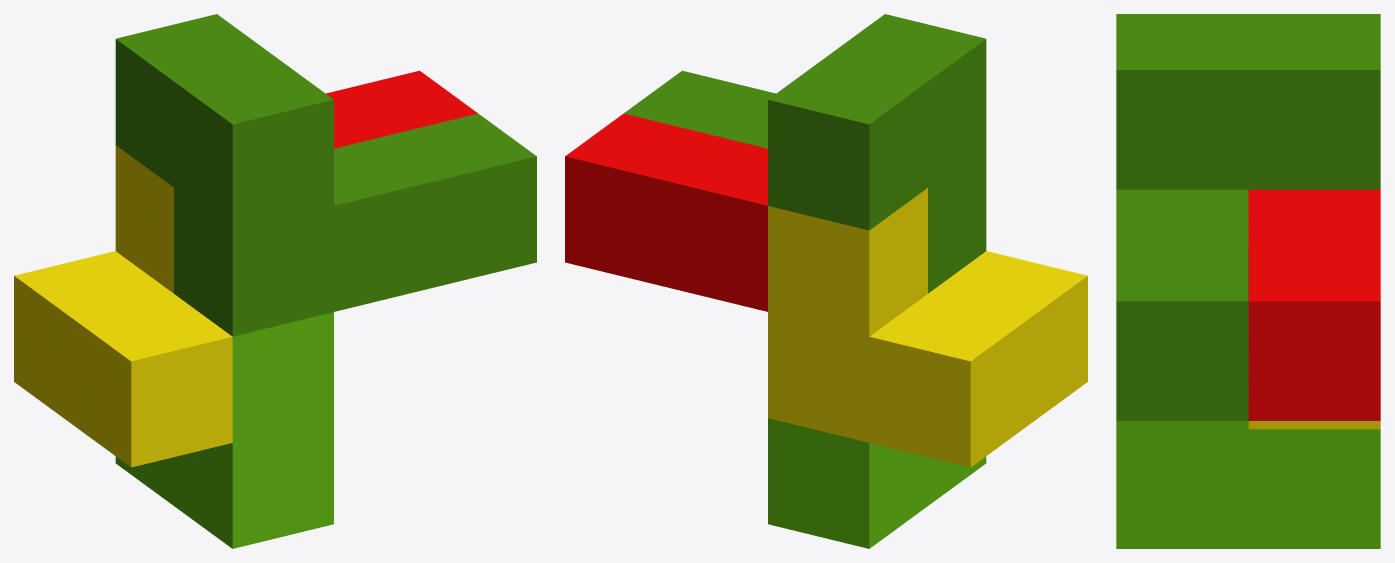
3 views of the same model, side by side, from view 1: azimuth 30°, elevation 25°; view 2: azimuth 150°, elevation 25°; view 3: azimuth 270°, elevation 25° (orthographic). The views are drawn at different scales.
Parts seen in each view (by area): view 1: mergedBlocks(Clone); view 2: mergedBlocks(Clone); view 3: mergedBlocks(Clone).
Boxes of the visible parts, x1,y1,x2,y2 form: mergedBlocks(Clone): (14, 14, 536, 548); mergedBlocks(Clone): (565, 14, 1087, 548); mergedBlocks(Clone): (1116, 14, 1380, 548).
Size of the model in its own units: 4 by 4 by 2.
Materials: 4 (4 with a texture image).
